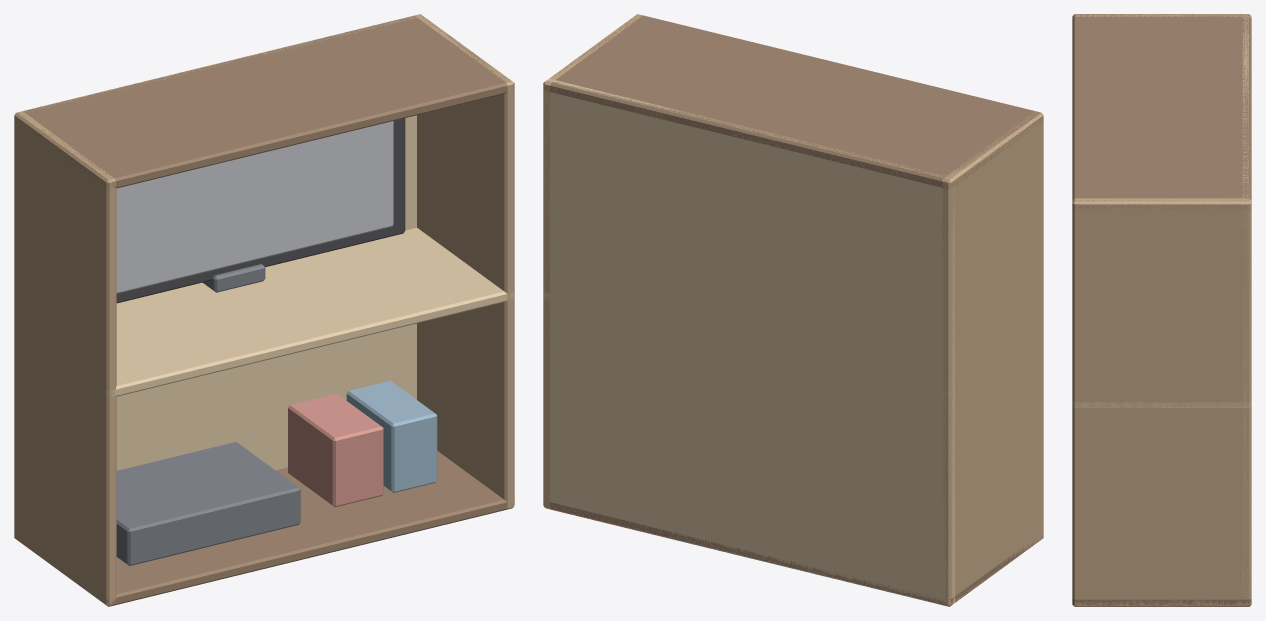
File: Media_2x2.glb
3 renders of one model, left to right at view 1: azimuth 30°, elevation 25°; view 2: azimuth 150°, elevation 25°; view 3: azimuth 270°, elevation 25°, orthographic. The views are drawn at different scales.
Parts seen in each view (by area): view 1: SpaceSaver_WallSys_Media_2x2; view 2: SpaceSaver_WallSys_Media_2x2; view 3: SpaceSaver_WallSys_Media_2x2.
Part boxes in pixels (<box>): SpaceSaver_WallSys_Media_2x2: <box>14,14,514,606</box>; SpaceSaver_WallSys_Media_2x2: <box>543,14,1043,606</box>; SpaceSaver_WallSys_Media_2x2: <box>1072,14,1251,606</box>.
Size of the model in its own units: 0.8 by 0.8 by 0.32.
